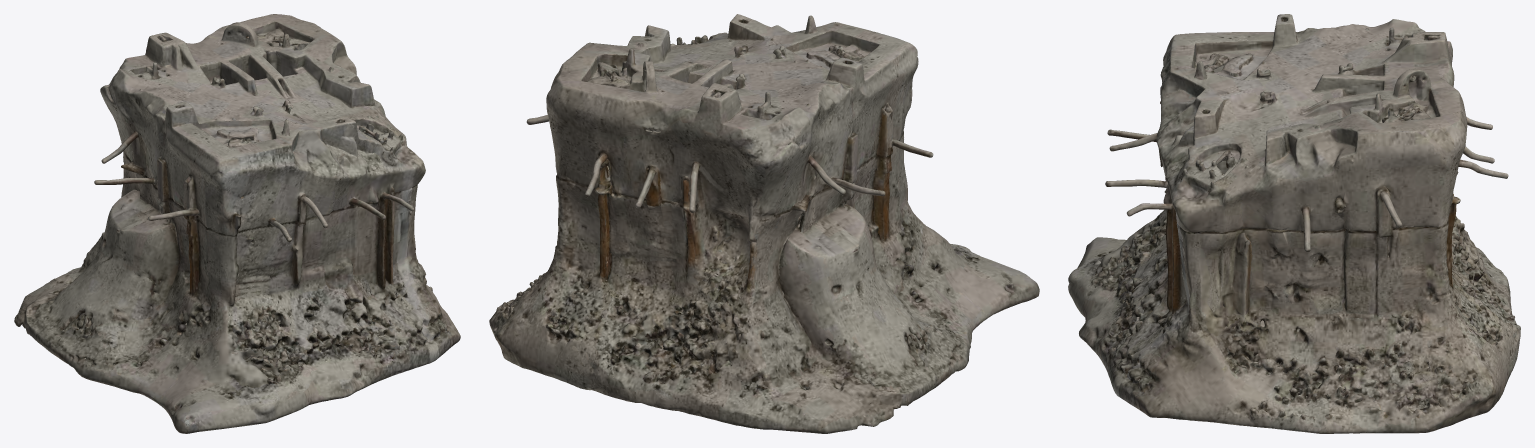
The model's file is Fortress.glb.
The picture shows the model from 3 angles, left to right: view 1: azimuth 30°, elevation 25°; view 2: azimuth 150°, elevation 25°; view 3: azimuth 270°, elevation 25°; orthographic projection. The views are drawn at different scales.
Parts seen in each view (by area): view 1: texture_mapping; view 2: texture_mapping; view 3: texture_mapping.
Part boxes in pixels (bbox=[...]): texture_mapping: bbox=[14, 14, 460, 433]; texture_mapping: bbox=[489, 14, 1039, 433]; texture_mapping: bbox=[1068, 14, 1520, 433].
Bounding box in the file's own units: 0.9991 × 0.6894 × 0.9712.
Materials: 1 (1 with a texture image).
